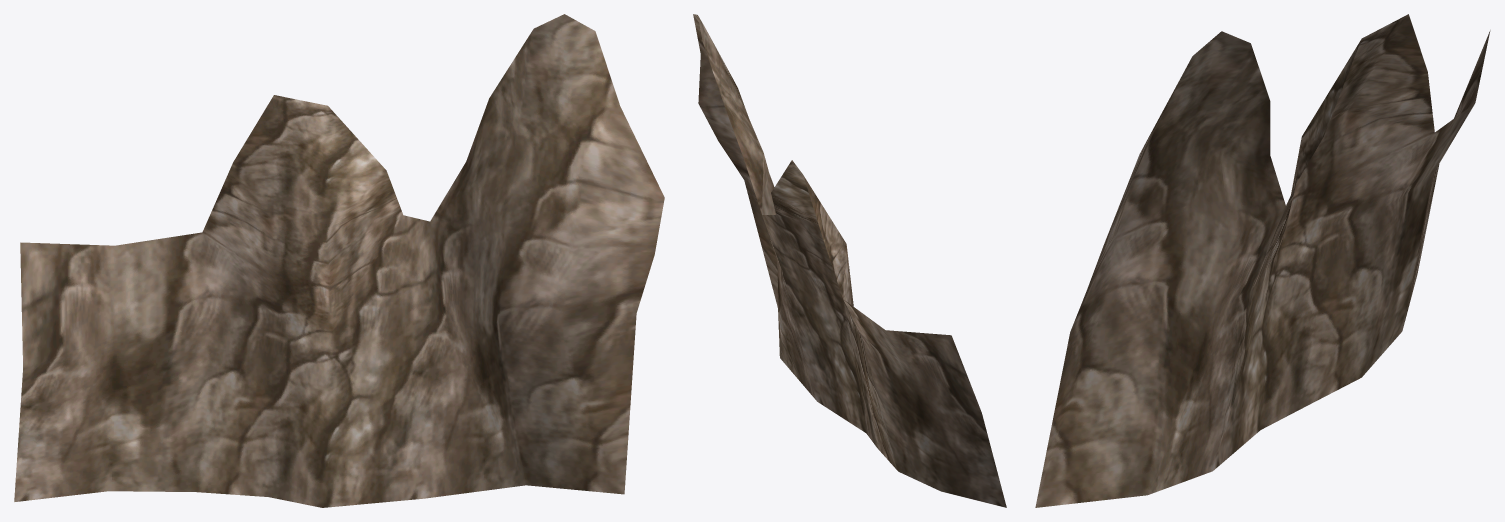
File: OVERHILL_A_01_OBJECT40.fbx
The picture shows the model from 3 angles, left to right: view 1: azimuth 30°, elevation 25°; view 2: azimuth 150°, elevation 25°; view 3: azimuth 270°, elevation 25°; orthographic projection. The views are drawn at different scales.
Visible parts, largest first — view 1: OVERHILL_A_01_OBJECT40; view 2: OVERHILL_A_01_OBJECT40; view 3: OVERHILL_A_01_OBJECT40.
Part boxes in pixels (x1,y1,x2,y2): OVERHILL_A_01_OBJECT40: [14, 14, 664, 507]; OVERHILL_A_01_OBJECT40: [693, 14, 1006, 507]; OVERHILL_A_01_OBJECT40: [1035, 14, 1490, 507].
Size of the model in its own units: 191486 by 159874 by 125016.
1 material, 1 textured.
